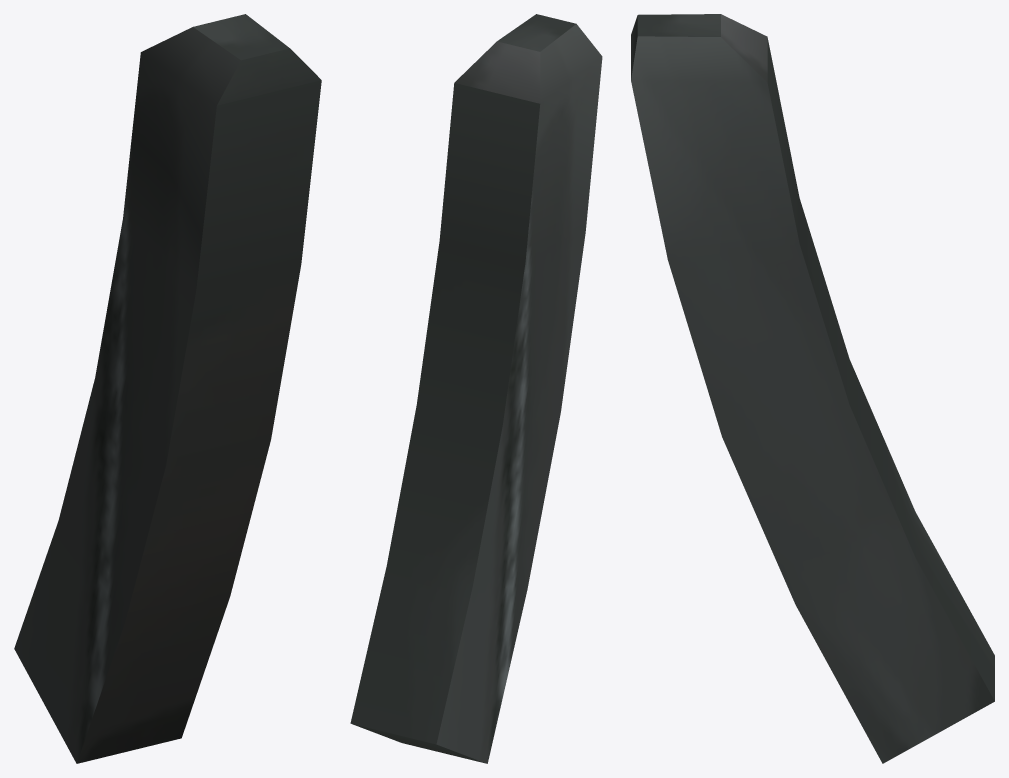
File: MP5_Magazine.fbx
3 renders of one model, left to right at view 1: azimuth 30°, elevation 25°; view 2: azimuth 150°, elevation 25°; view 3: azimuth 270°, elevation 25°, orthographic. The views are drawn at different scales.
Visible parts, largest first — view 1: MP5_Magazine_LP; view 2: MP5_Magazine_LP; view 3: MP5_Magazine_LP.
Part boxes in pixels (<box>): MP5_Magazine_LP: <box>14,14,321,763</box>; MP5_Magazine_LP: <box>350,14,602,763</box>; MP5_Magazine_LP: <box>631,14,994,763</box>.
Size of the model in its own units: 0.0152 by 0.0508 by 0.1102.
